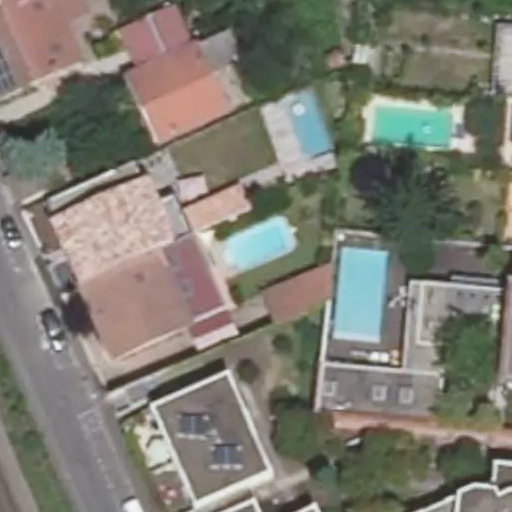pool: (213, 243, 292, 245)
